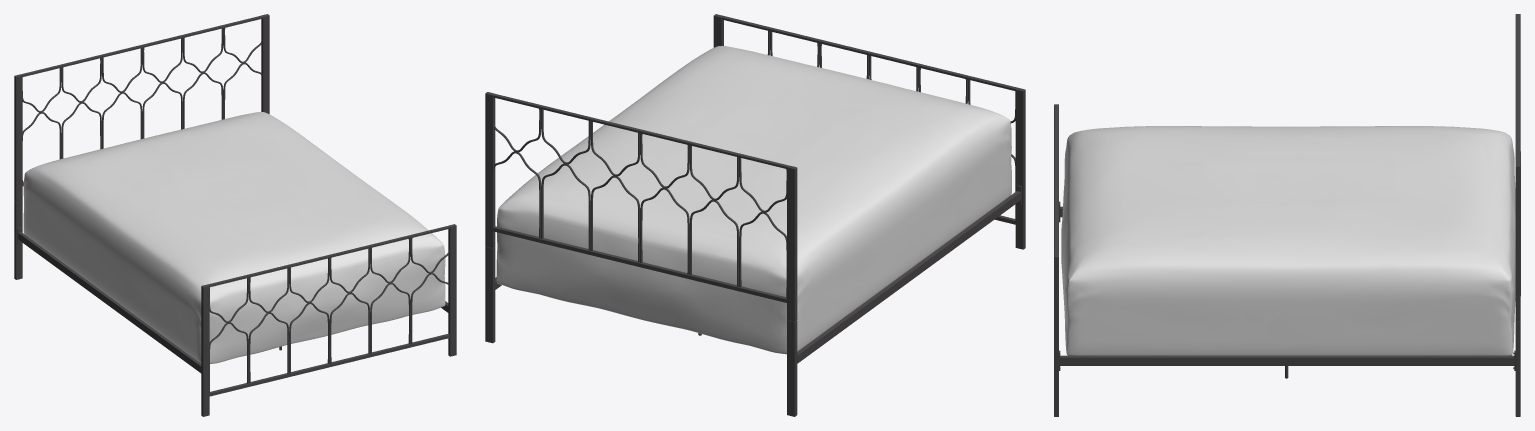
The model's file is abo-B075QMHYV8.glb.
3 renders of one model, left to right at view 1: azimuth 30°, elevation 25°; view 2: azimuth 150°, elevation 25°; view 3: azimuth 270°, elevation 25°, orthographic. The views are drawn at different scales.
Bounding box in the file's own units: 1.6 × 1.22 × 2.06.
Materials: 1 (1 with a texture image).
